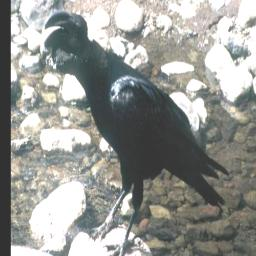Crow: (38, 8, 229, 256)
